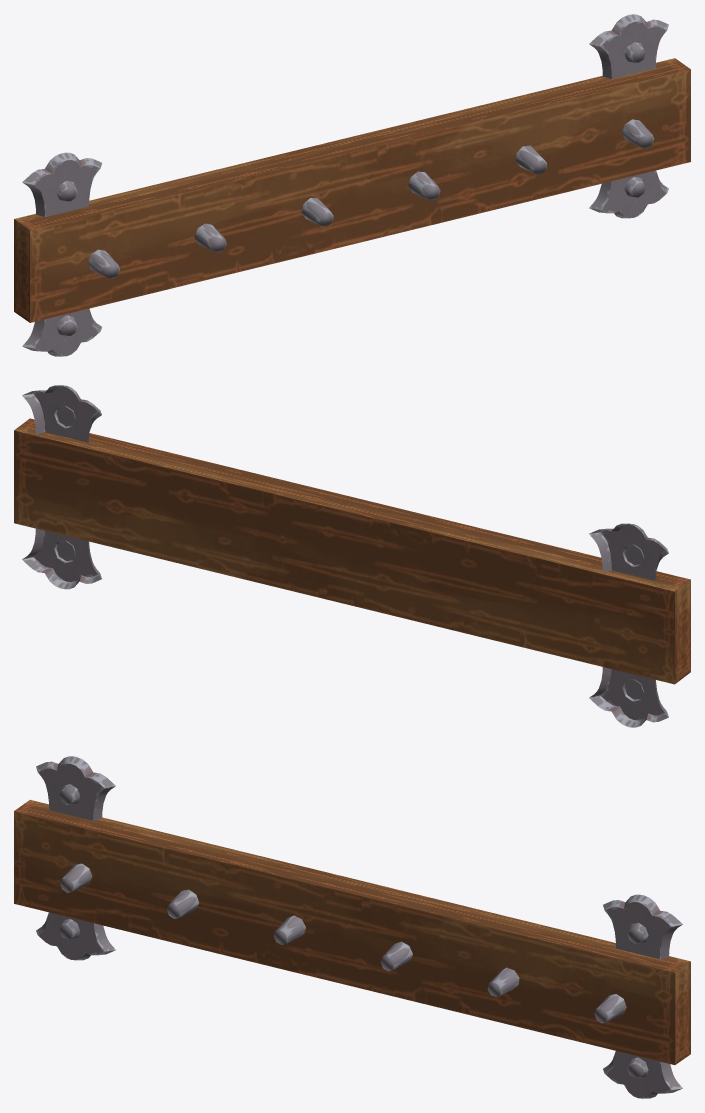
Rendered from peg_rack.gltf.
3 renders of one model, top to bottom at view 1: azimuth 30°, elevation 25°; view 2: azimuth 150°, elevation 25°; view 3: azimuth 330°, elevation 25°, orthographic.
Visible parts, largest first — view 1: Peg_Rack; view 2: Peg_Rack; view 3: Peg_Rack.
Boxes of the visible parts, x1,y1,x2,y2 form: Peg_Rack: [14, 14, 690, 356]; Peg_Rack: [14, 385, 690, 727]; Peg_Rack: [14, 756, 690, 1098].
Size of the model in its own units: 1.18 by 0.3479 by 0.0957.
2 materials, 2 textured.
